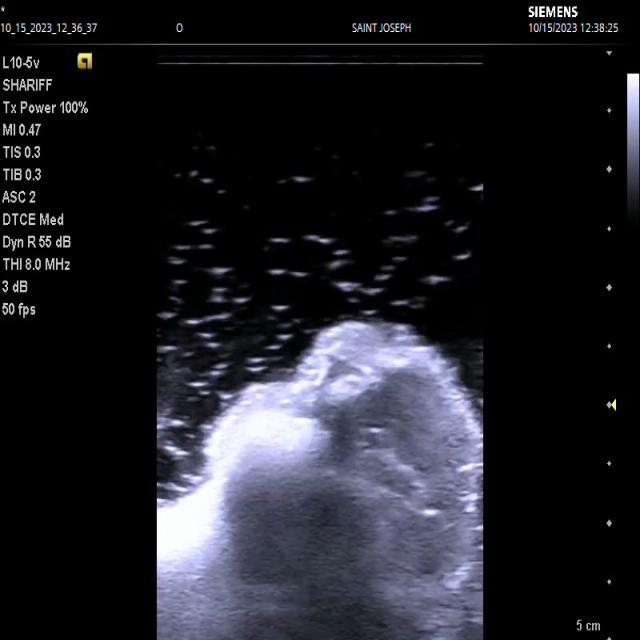tissue: (157, 322, 483, 640)
